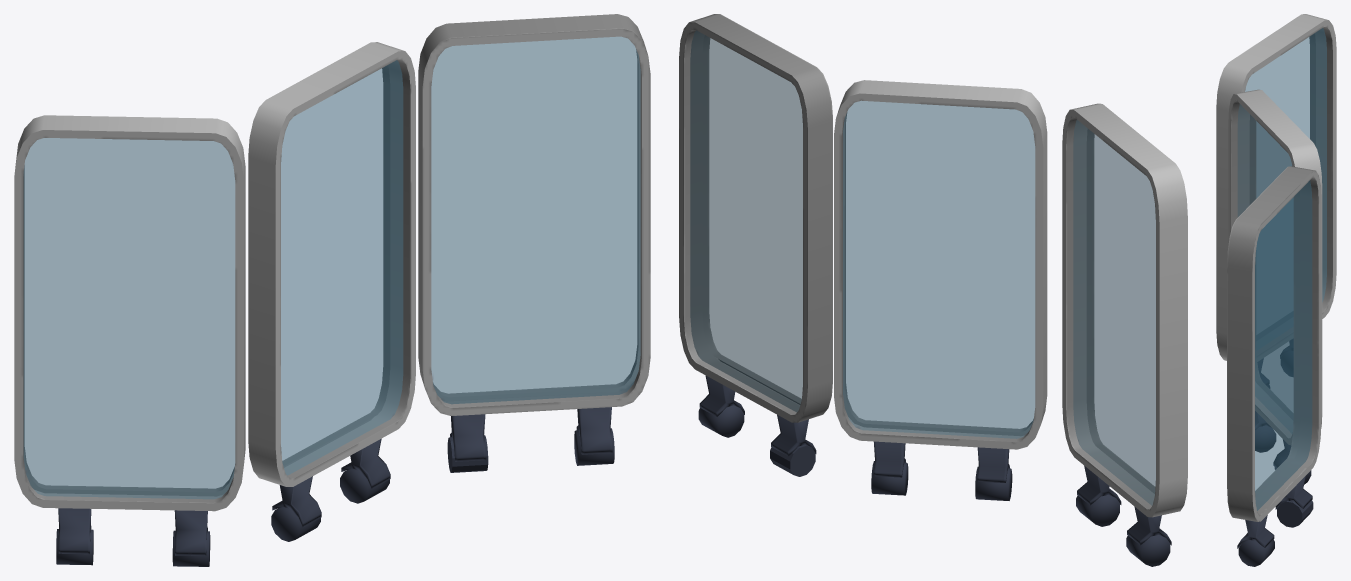
The model's file is FoldoutWallPanel_Glass.glb.
3 renders of one model, left to right at view 1: azimuth 30°, elevation 25°; view 2: azimuth 150°, elevation 25°; view 3: azimuth 270°, elevation 25°, orthographic. The views are drawn at different scales.
Parts seen in each view (by area): view 1: Cube.045, Cube.047, Cube.046, WheelGuardLeft1.040, WheelGuardLeft1.041, WheelGuardLeft1.038, WheelGuardLeft1.039, WheelGuardLeft1.036, WheelGuardLeft1.037, LeftWheel1.036, LeftWheel1.037; view 2: Cube.046, Cube.045, Cube.047, WheelGuardLeft1.037, WheelGuardLeft1.036, WheelGuardLeft1.040, LeftWheel1.041, LeftWheel1.040, LeftWheel1.038, LeftWheel1.039, WheelGuardLeft1.041, WheelGuardLeft1.038 (+3 smaller); view 3: Cube.045, Cube.047, Cube.046, LeftWheel1.041, LeftWheel1.040, WheelGuardLeft1.041, LeftWheel1.036, WheelGuardLeft1.040, LeftWheel1.038, WheelGuardLeft1.037.
Boxes of the visible parts, <box> form: Cube.045: <box>418,14,650,415</box>; Cube.047: <box>14,115,245,511</box>; Cube.046: <box>248,42,415,486</box>; WheelGuardLeft1.040: <box>450,414,486,461</box>; WheelGuardLeft1.041: <box>576,407,612,454</box>; WheelGuardLeft1.038: <box>58,508,91,554</box>; WheelGuardLeft1.039: <box>174,510,207,555</box>; WheelGuardLeft1.036: <box>272,476,321,527</box>; WheelGuardLeft1.037: <box>341,438,390,488</box>; LeftWheel1.036: <box>271,506,320,541</box>; LeftWheel1.037: <box>340,468,389,503</box>; Cube.046: <box>834,80,1047,449</box>; Cube.045: <box>679,14,832,422</box>; Cube.047: <box>1062,103,1187,517</box>; WheelGuardLeft1.037: <box>873,441,906,477</box>; WheelGuardLeft1.036: <box>977,447,1009,482</box>; WheelGuardLeft1.040: <box>771,415,816,456</box>; LeftWheel1.041: <box>698,405,744,437</box>; LeftWheel1.040: <box>770,444,815,476</box>; LeftWheel1.038: <box>1126,535,1170,566</box>; LeftWheel1.039: <box>1076,495,1119,526</box>; WheelGuardLeft1.041: <box>699,375,744,416</box>; WheelGuardLeft1.038: <box>1127,506,1171,545</box>; Cube.045: <box>1227,166,1321,521</box>; Cube.047: <box>1216,14,1336,361</box>; Cube.046: <box>1228,89,1322,444</box>; LeftWheel1.041: <box>1238,539,1274,566</box>; LeftWheel1.040: <box>1277,500,1313,527</box>; WheelGuardLeft1.041: <box>1237,515,1274,548</box>; LeftWheel1.036: <box>1255,425,1276,452</box>; WheelGuardLeft1.040: <box>1275,476,1312,509</box>; LeftWheel1.038: <box>1281,350,1293,376</box>; WheelGuardLeft1.037: <box>1273,439,1291,468</box>.
Size of the model in its own units: 3.94 by 2.8 by 0.8808.
Materials: 2 (2 with a texture image).
